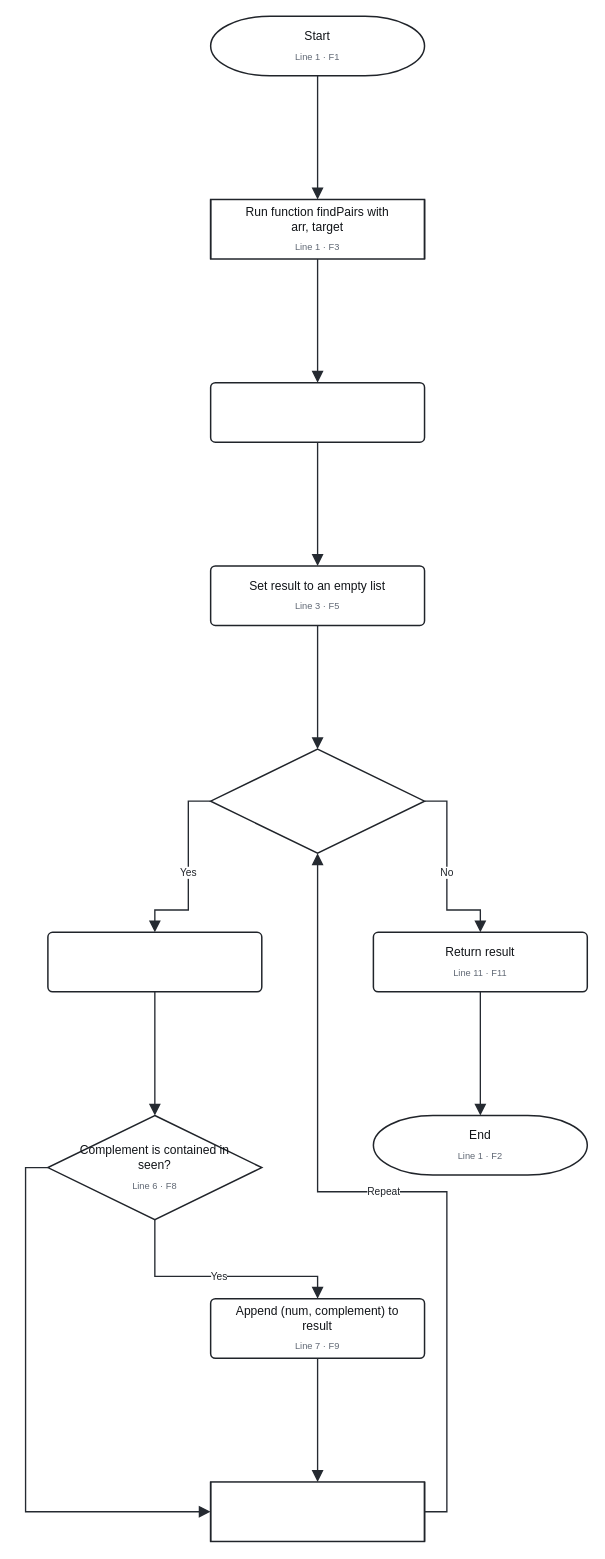
Image size: 605x1559. Some labels were removed from this diagram. The centre of each missing label's shape, as x and y in pixels:
"Call add_to_set with seen, num Line 9 · F10" goes at (x=317, y=1511).
"For each num in arr Line 4 · F6" goes at (x=317, y=801).
"Set complement to target minus num Line 5 · F7" goes at (x=154, y=961).
"Set seen to an empty set Line 2 · F4" goes at (x=317, y=411).
